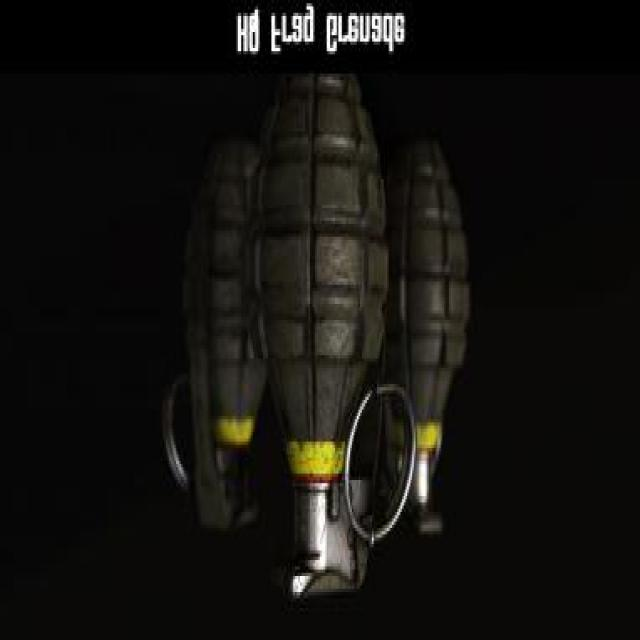grenade: (244, 68, 418, 603), (164, 139, 269, 536), (378, 135, 473, 542)
